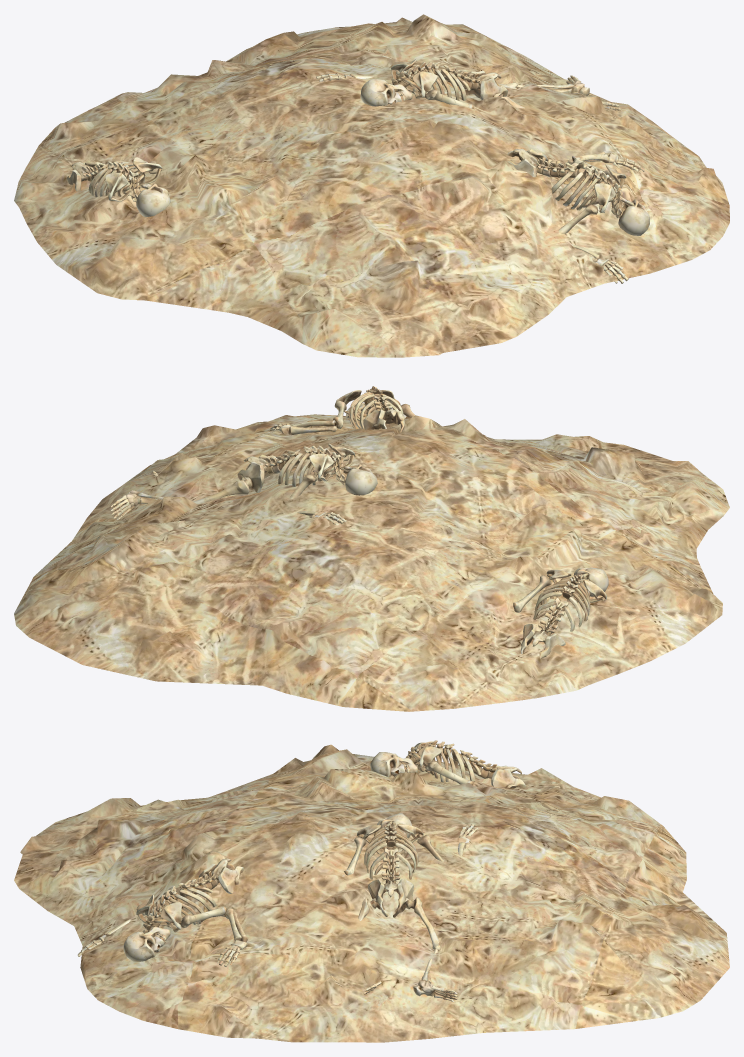
3 renders of one model, top to bottom at view 1: azimuth 30°, elevation 25°; view 2: azimuth 150°, elevation 25°; view 3: azimuth 270°, elevation 25°, orthographic. The views are drawn at different scales.
Parts seen in each view (by area): view 1: SM_Skeleton_Pit_01_v1_LOD0; view 2: SM_Skeleton_Pit_01_v1_LOD0; view 3: SM_Skeleton_Pit_01_v1_LOD0.
Part boxes in pixels (x1,y1,x2,y2): SM_Skeleton_Pit_01_v1_LOD0: (14, 14, 729, 357); SM_Skeleton_Pit_01_v1_LOD0: (14, 386, 729, 711); SM_Skeleton_Pit_01_v1_LOD0: (14, 740, 729, 1042).
Bounding box in the file's own units: 4.19 × 0.7724 × 4.48.
2 materials, 2 textured.
